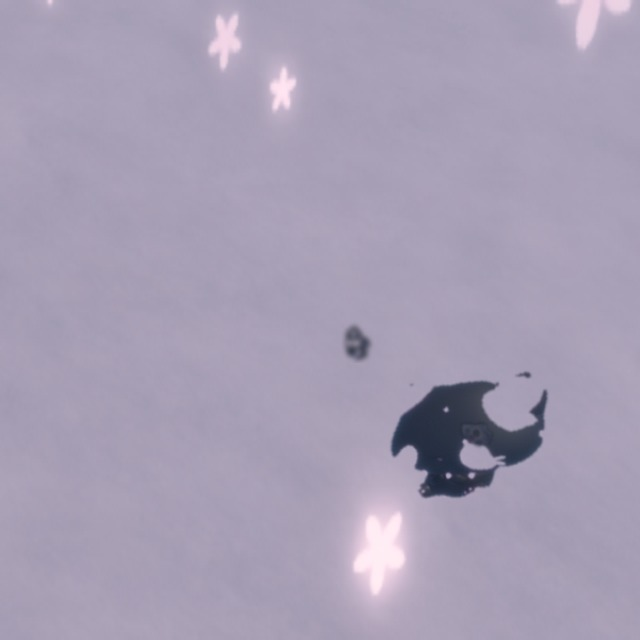urso_preto: (348, 334, 593, 532), (337, 320, 376, 363), (455, 415, 495, 450)
